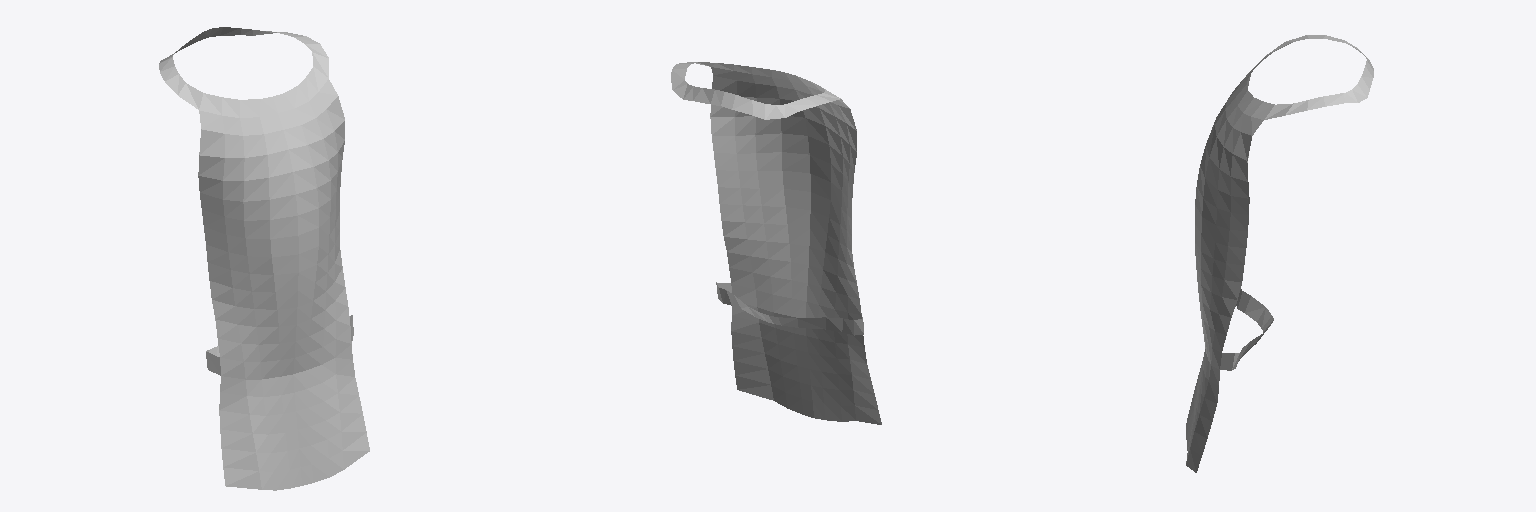
Rendered from arpon_4.obj.
The picture shows the model from 3 angles: view 1: azimuth 30°, elevation 25°; view 2: azimuth 150°, elevation 25°; view 3: azimuth 270°, elevation 25°; orthographic projection.
Visible parts, largest first — view 1: apron_base_Plane.006; view 2: apron_base_Plane.006; view 3: apron_base_Plane.006.
Boxes of the visible parts, <box> form: apron_base_Plane.006: <box>159,27,369,490</box>; apron_base_Plane.006: <box>671,62,881,424</box>; apron_base_Plane.006: <box>1186,35,1373,472</box>.
Size of the model in its own units: 0.6445 by 1.55 by 0.6761.